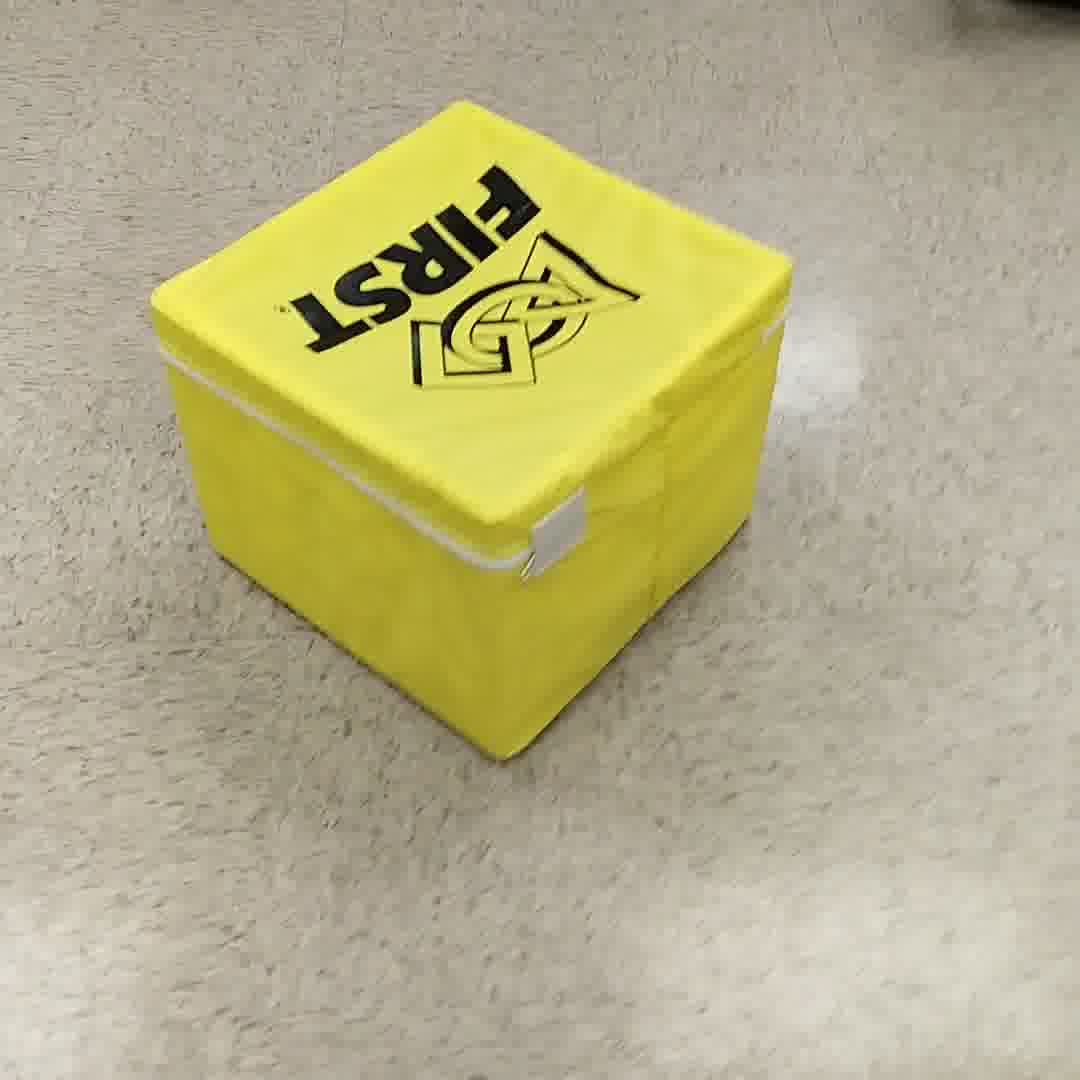box: (127, 104, 795, 783)
